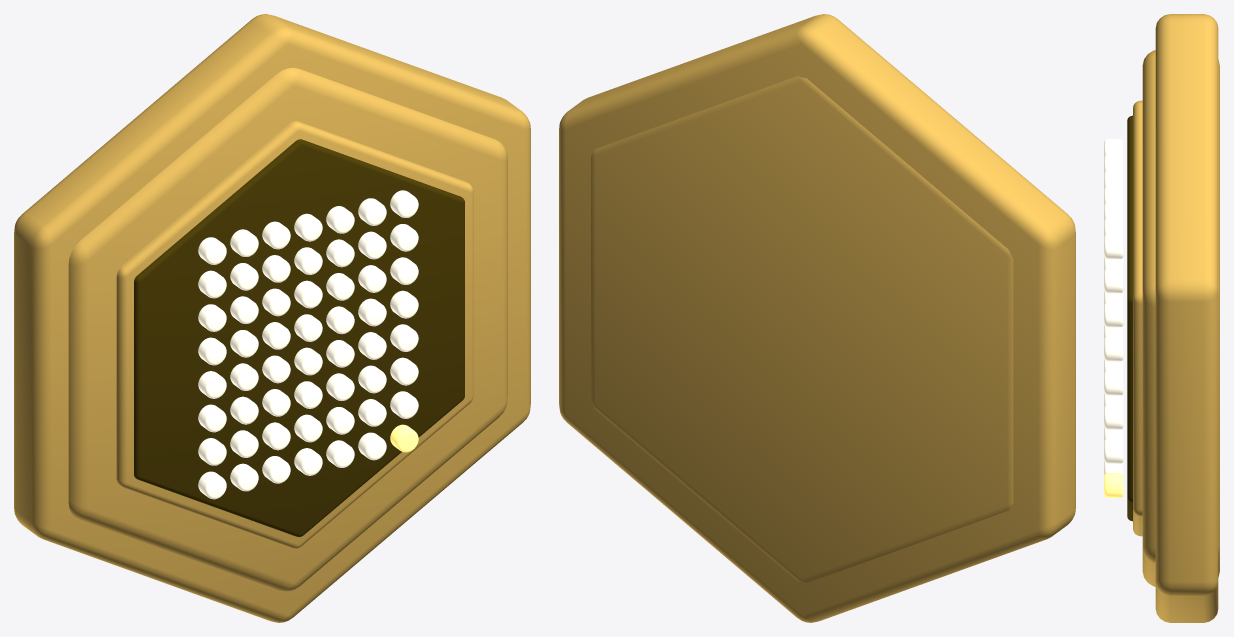
The model's file is disciplined-program.glb.
The picture shows the model from 3 angles, left to right: view 1: azimuth 30°, elevation 25°; view 2: azimuth 150°, elevation 25°; view 3: azimuth 270°, elevation 25°; orthographic projection.
Visible parts, largest first — view 1: panel, outer, frame, ring; view 2: frame, outer; view 3: outer, frame, ring, panel, p.020, p.006, p.013, p.027, p.034, p.048, p.041, p.055 (+13 smaller).
Part boxes in pixels (x1,y1,x2,y2): panel: [134, 139, 464, 536]; outer: [14, 14, 530, 622]; frame: [68, 67, 507, 591]; ring: [116, 121, 473, 548]; frame: [591, 76, 1013, 583]; outer: [559, 14, 1075, 622]; outer: [1155, 14, 1218, 622]; frame: [1142, 50, 1219, 586]; ring: [1133, 100, 1142, 536]; panel: [1127, 115, 1132, 521]; p.020: [1104, 302, 1123, 327]; p.006: [1104, 234, 1123, 259]; p.013: [1104, 268, 1123, 293]; p.027: [1104, 336, 1123, 361]; p.034: [1104, 370, 1123, 395]; p.048: [1104, 438, 1123, 463]; p.041: [1104, 404, 1123, 429]; p.055: [1104, 473, 1123, 497].
Bounding box in the file's own units: 1.21 × 1.38 × 0.24.
